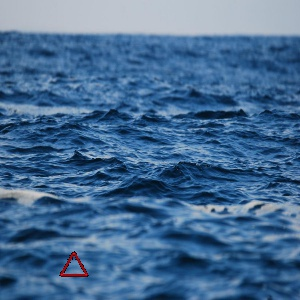triangle: (58, 249, 92, 280)
